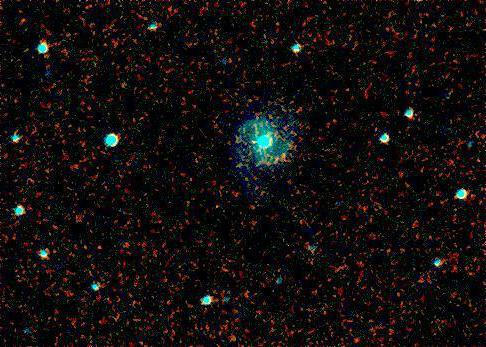star: (241, 127, 271, 157)
